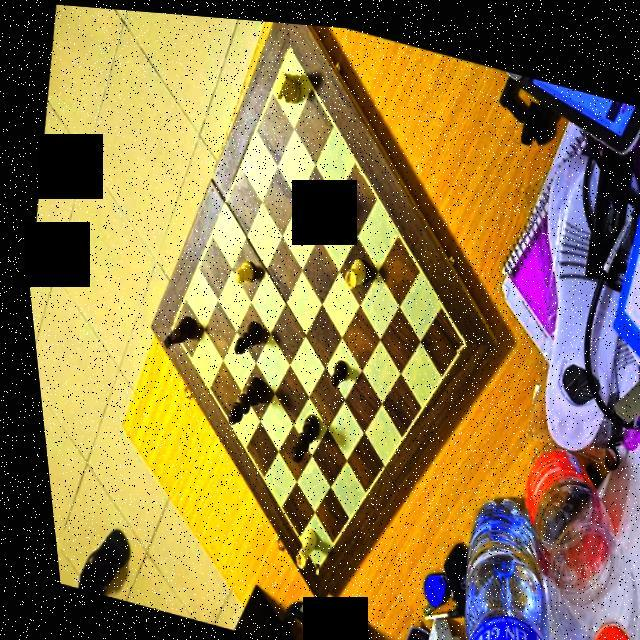chess-table-corners: (448, 323, 466, 348), (282, 36, 297, 57), (161, 318, 169, 331), (302, 558, 309, 570)
